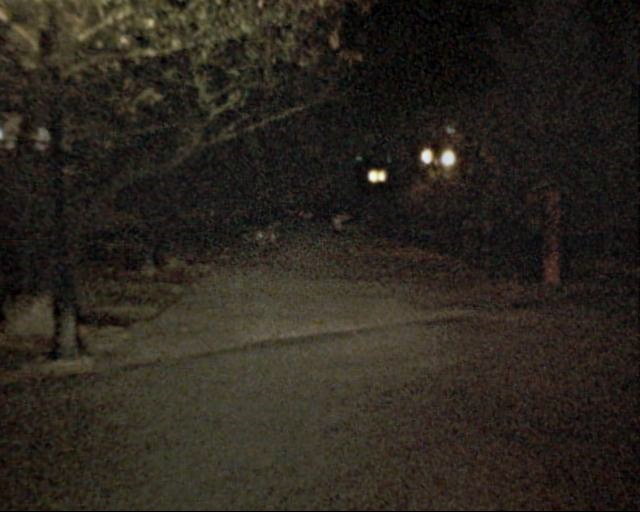person: (328, 210, 346, 254)
